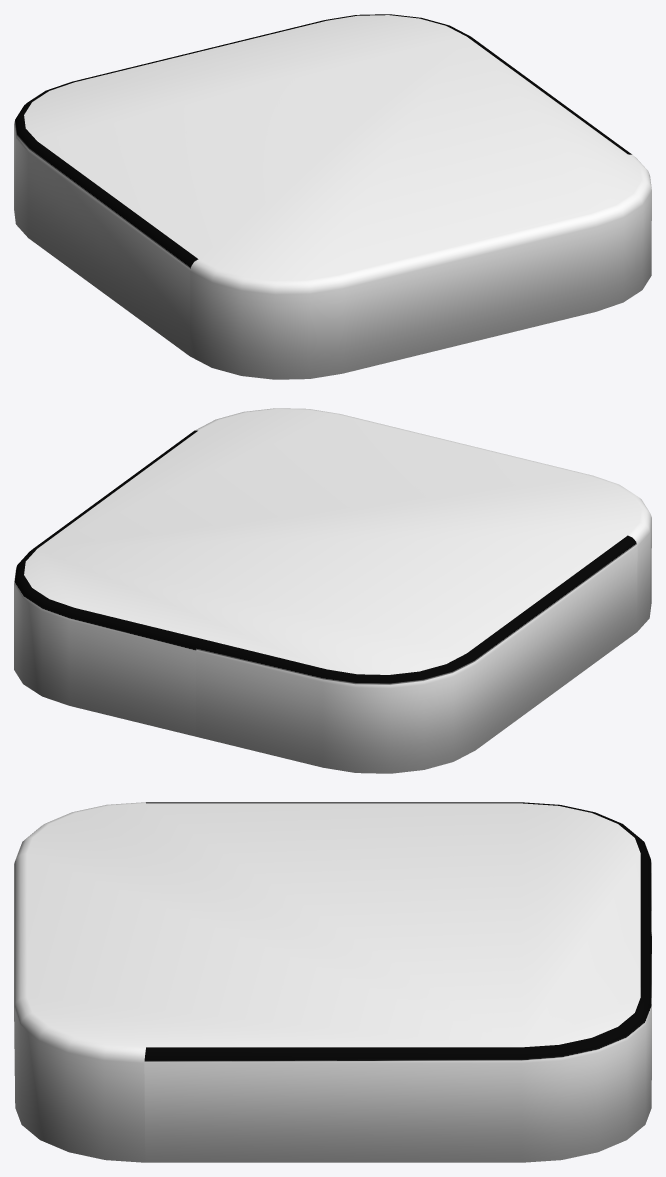
The model's file is arrow_tile_Jan2026.fbx.
3 renders of one model, top to bottom at view 1: azimuth 30°, elevation 25°; view 2: azimuth 150°, elevation 25°; view 3: azimuth 270°, elevation 25°, orthographic. The views are drawn at different scales.
Parts seen in each view (by area): view 1: ArrowTile_Jan; view 2: ArrowTile_Jan; view 3: ArrowTile_Jan.
Boxes of the visible parts, box(x1,y1,x2,y2) form: ArrowTile_Jan: box(14, 14, 651, 379); ArrowTile_Jan: box(14, 408, 651, 773); ArrowTile_Jan: box(14, 802, 651, 1162).
Bounding box in the file's own units: 200 × 40.54 × 212.
